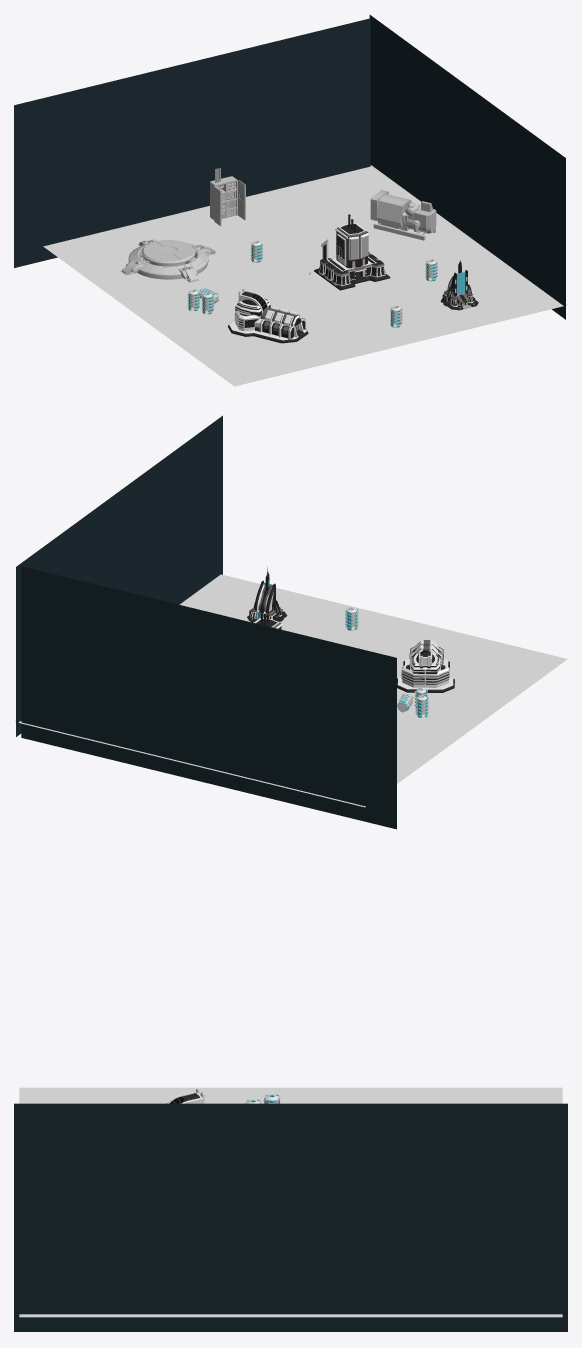
Rendered from level.fbx.
3 views of the same model, one above another, from view 1: azimuth 30°, elevation 25°; view 2: azimuth 150°, elevation 25°; view 3: azimuth 270°, elevation 25° (orthographic). The views are drawn at different scales.
Parts seen in each view (by area): view 1: Plane.002, Plane, Plane.001, portal_button_reduced_2, Object_2, Smeltery_UpperBody, Smeltery_Body, CyberneticFactory_Foundation_Angar, Fridge, CyberneticFactory_Foundation_Body, InformationCenter_Body, CyberneticFactory_Foundation; view 2: Plane.002, Plane.001, Plane, CyberneticFactory_Foundation_Body, InformationCenter_Body; view 3: Plane.001, Plane.
Part boxes in pixels (box(x1,y1,x2,y2)): Plane.002: box(14, 18, 370, 267); Plane: box(43, 165, 567, 386); Plane.001: box(369, 15, 565, 319); portal_button_reduced_2: box(120, 239, 216, 282); Object_2: box(370, 190, 436, 240); Smeltery_UpperBody: box(335, 223, 369, 268); Smeltery_Body: box(319, 252, 385, 285); CyberneticFactory_Foundation_Angar: box(255, 306, 305, 339); Fridge: box(210, 167, 237, 219); CyberneticFactory_Foundation_Body: box(234, 298, 270, 331); InformationCenter_Body: box(442, 260, 473, 306); CyberneticFactory_Foundation: box(228, 321, 308, 343); Plane.002: box(21, 566, 396, 829); Plane.001: box(16, 415, 222, 736); Plane: box(14, 574, 567, 807); CyberneticFactory_Foundation_Body: box(401, 654, 449, 687); InformationCenter_Body: box(249, 566, 281, 620); Plane.001: box(14, 1103, 567, 1331); Plane: box(19, 1087, 562, 1317).
Size of the model in its own units: 1306 by 565 by 1225.
